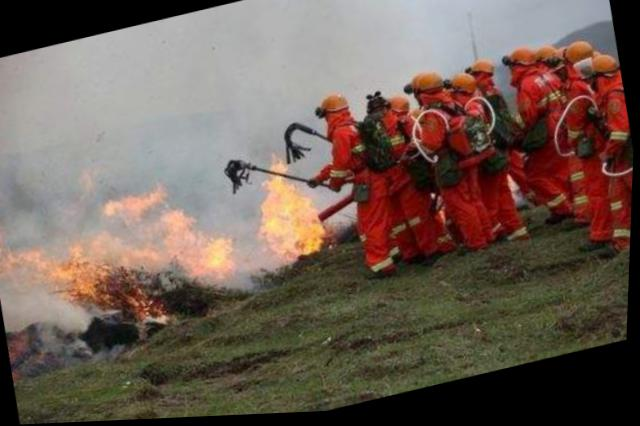fire: (0, 161, 246, 349), (248, 148, 342, 272)
